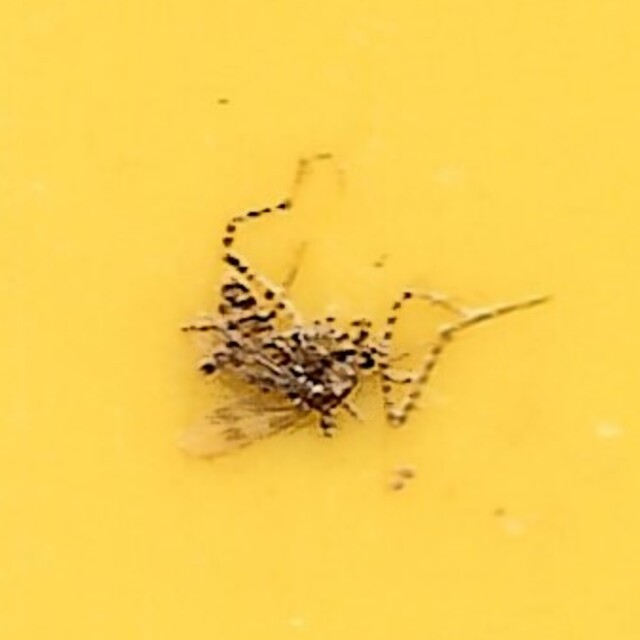Nematocera: (190, 196, 450, 444)
